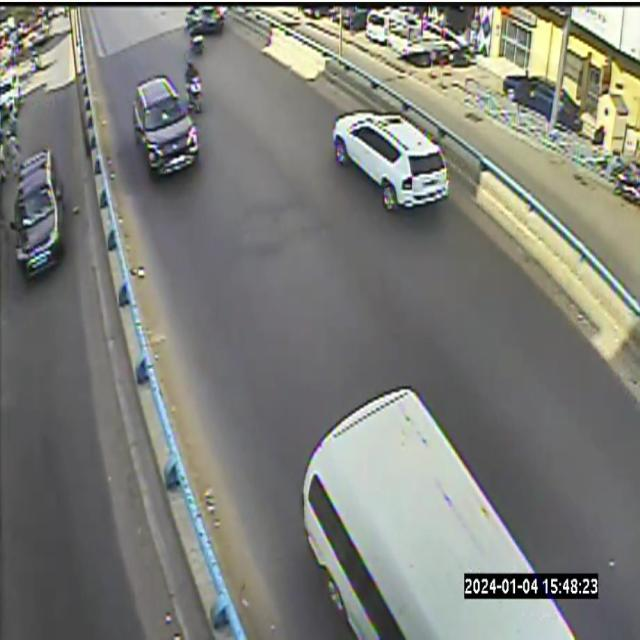car: (303, 387, 573, 639), (333, 112, 449, 210), (132, 76, 199, 172)
